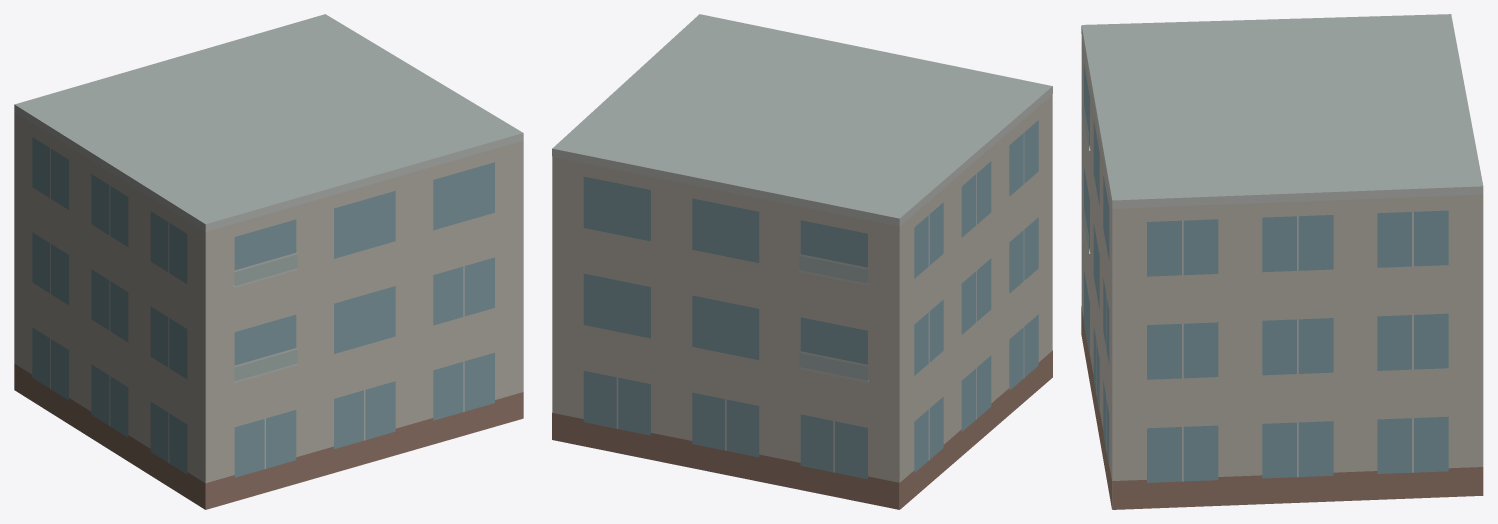
The model's file is survey-upis-32653502.glb.
3 views of the same model, side by side, from view 1: azimuth 30°, elevation 25°; view 2: azimuth 150°, elevation 25°; view 3: azimuth 270°, elevation 25° (orthographic). The views are drawn at different scales.
Parts seen in each view (by area): view 1: survey-upis-32653502.tmp; view 2: survey-upis-32653502.tmp; view 3: survey-upis-32653502.tmp.
Boxes of the visible parts, left/top/right/bottom form: survey-upis-32653502.tmp: left=14, top=14, right=523, bottom=509; survey-upis-32653502.tmp: left=552, top=14, right=1052, bottom=509; survey-upis-32653502.tmp: left=1081, top=14, right=1483, bottom=509.
Bounding box in the file's own units: 11.84 × 9.15 × 10.78.
